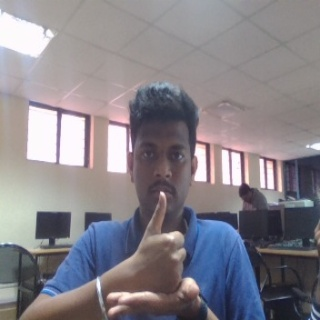Help: (105, 190, 200, 317)
